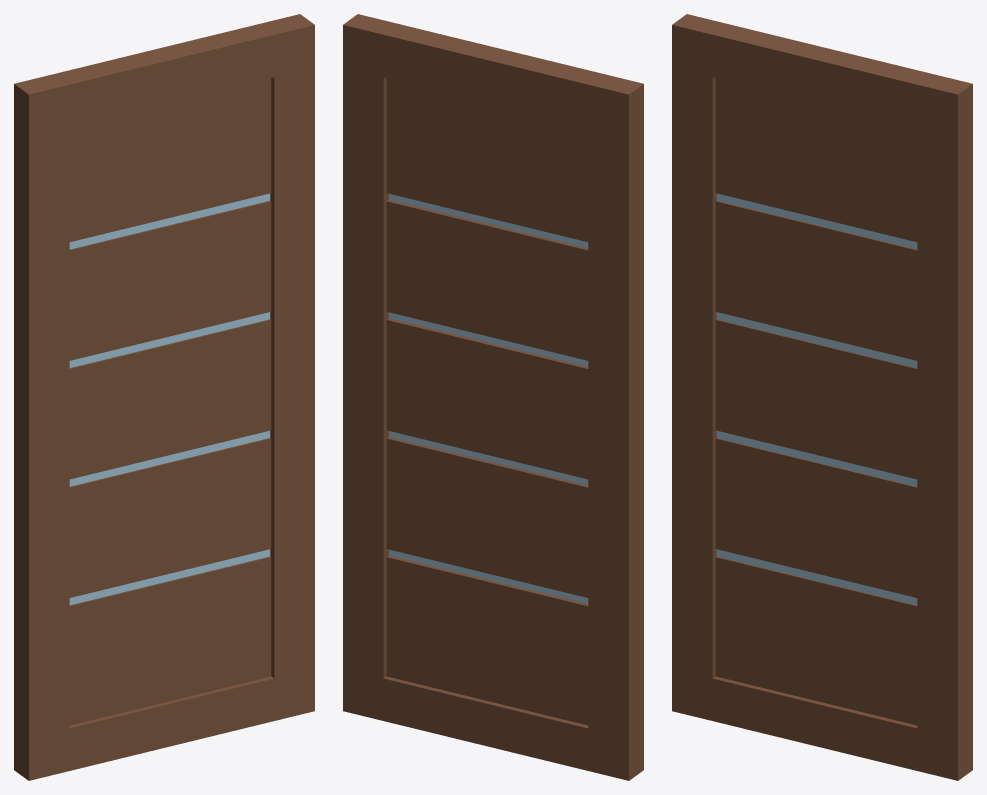
The model's file is Door4_C5.fbx.
3 views of the same model, side by side, from view 1: azimuth 30°, elevation 25°; view 2: azimuth 150°, elevation 25°; view 3: azimuth 330°, elevation 25° (orthographic).
Parts seen in each view (by area): view 1: Door4_C5; view 2: Door4_C5; view 3: Door4_C5.
Part boxes in pixels (bbox=[...]): Door4_C5: bbox=[14, 14, 314, 780]; Door4_C5: bbox=[343, 14, 643, 780]; Door4_C5: bbox=[672, 14, 972, 780].
Size of the model in its own units: 0.89 by 2.04 by 0.08.
